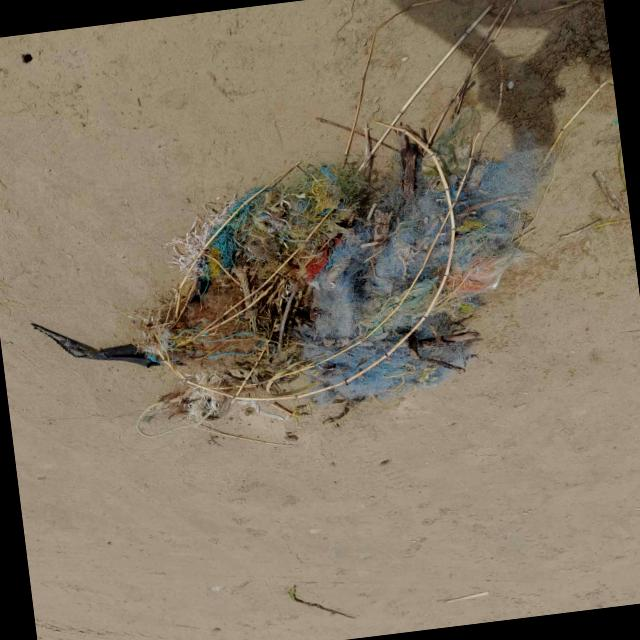rac_huu_co: (113, 0, 613, 426)
